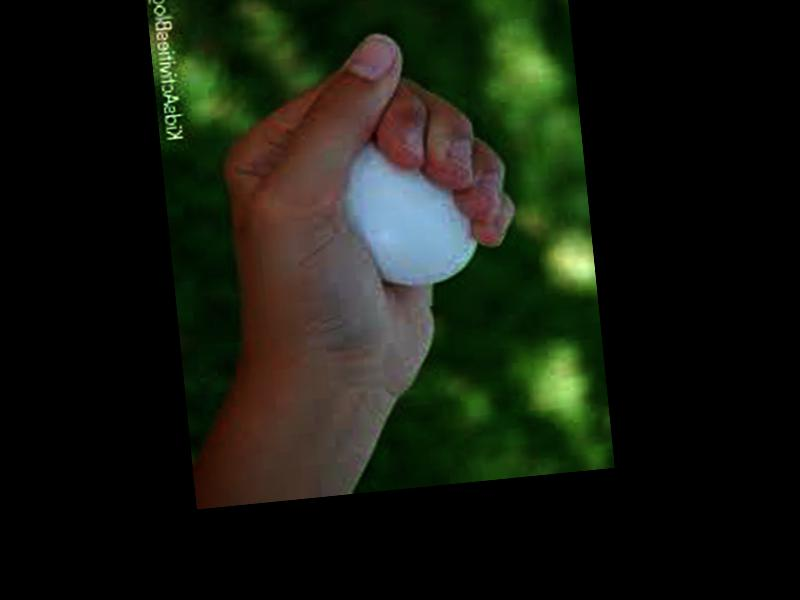Eggs: (346, 130, 480, 292)
